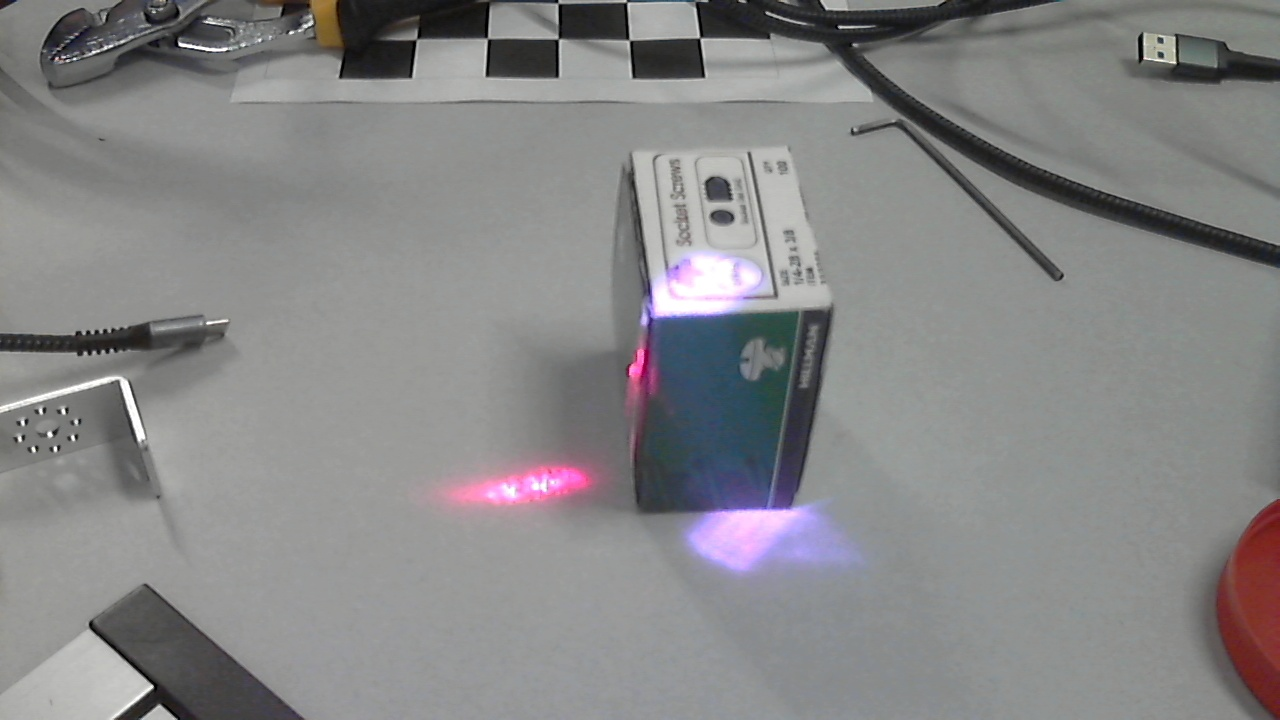Object robotic gripper finger assembly - Material plastic - Color blue - Pdfname: (606, 243, 772, 510)
